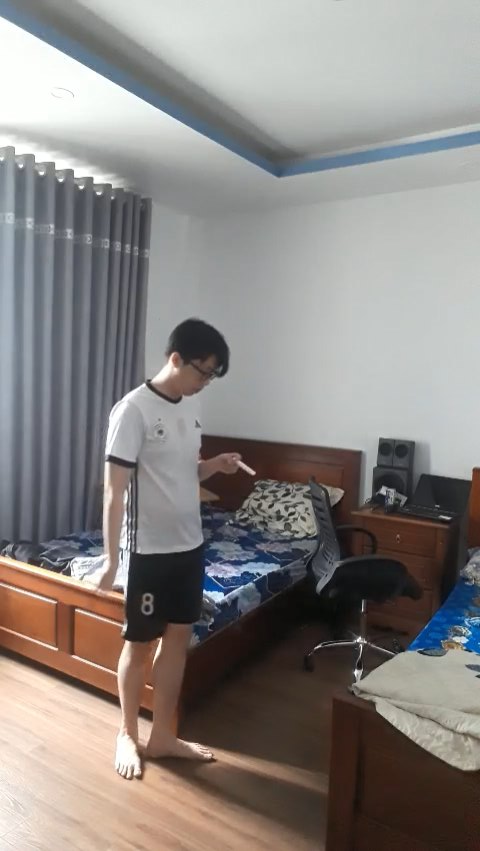cigarette: (242, 458, 257, 480)
person: (72, 285, 268, 785)
